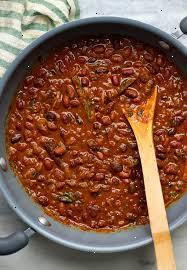rajma: (10, 42, 187, 223)
